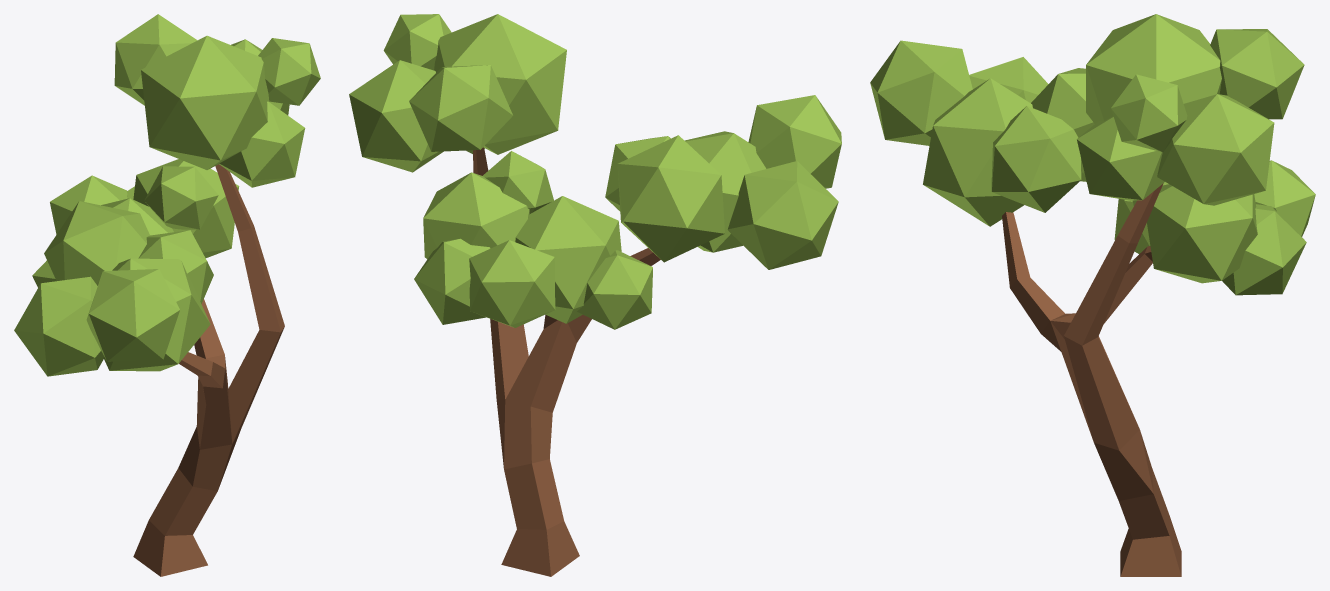
Rendered from Oak2.fbx.
3 views of the same model, side by side, from view 1: azimuth 30°, elevation 25°; view 2: azimuth 150°, elevation 25°; view 3: azimuth 270°, elevation 25° (orthographic). The views are drawn at different scales.
Visible parts, largest first — view 1: Icosphere.033; view 2: Icosphere.033; view 3: Icosphere.033.
Boxes of the visible parts, box(x1,y1,x2,y2) form: Icosphere.033: box(14, 14, 320, 576); Icosphere.033: box(349, 14, 841, 576); Icosphere.033: box(870, 14, 1315, 576).
Bounding box in the file's own units: 496 × 694 × 491.
Materials: 1 (1 with a texture image).
